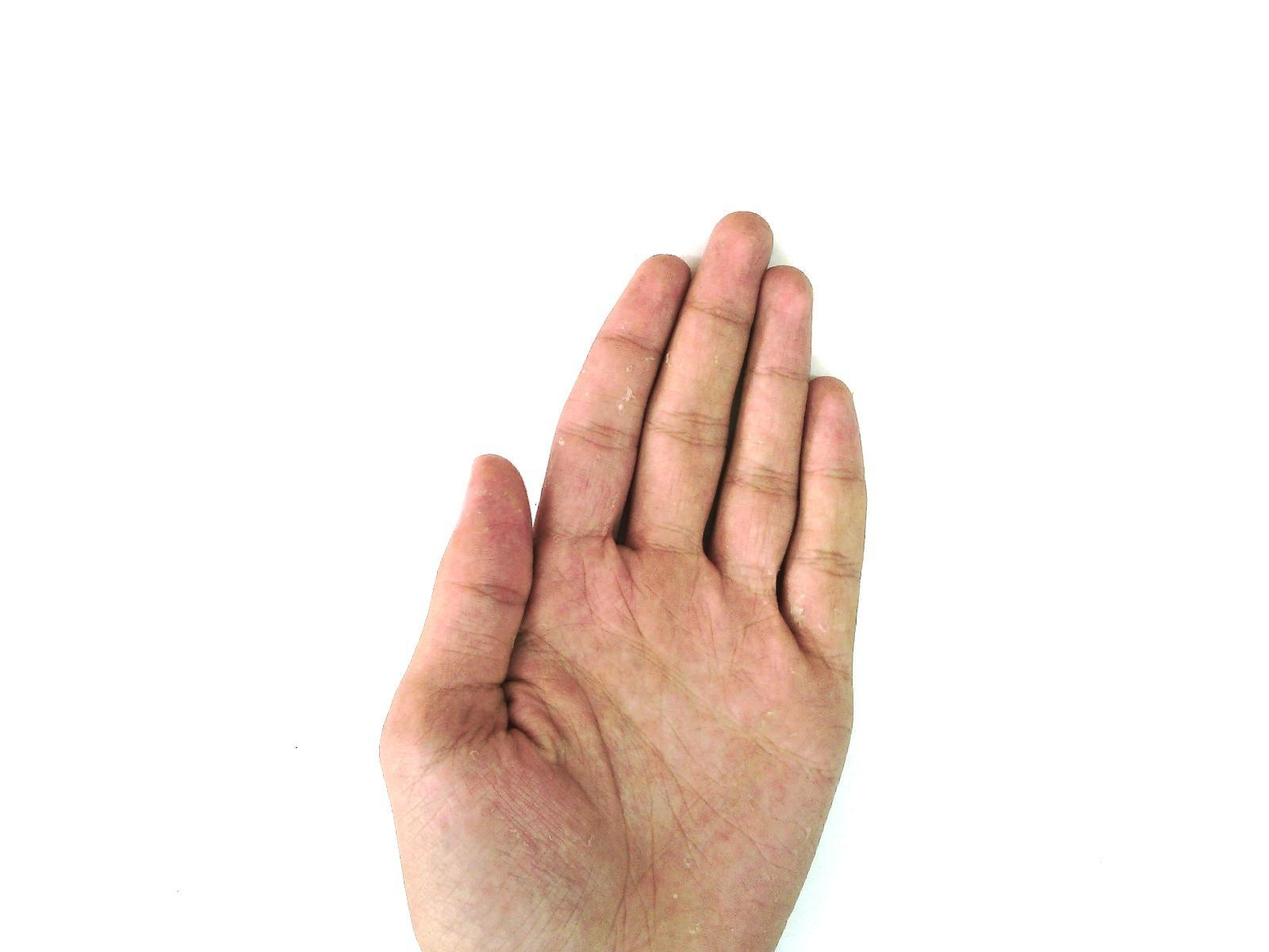open_palm: (377, 209, 871, 952)
